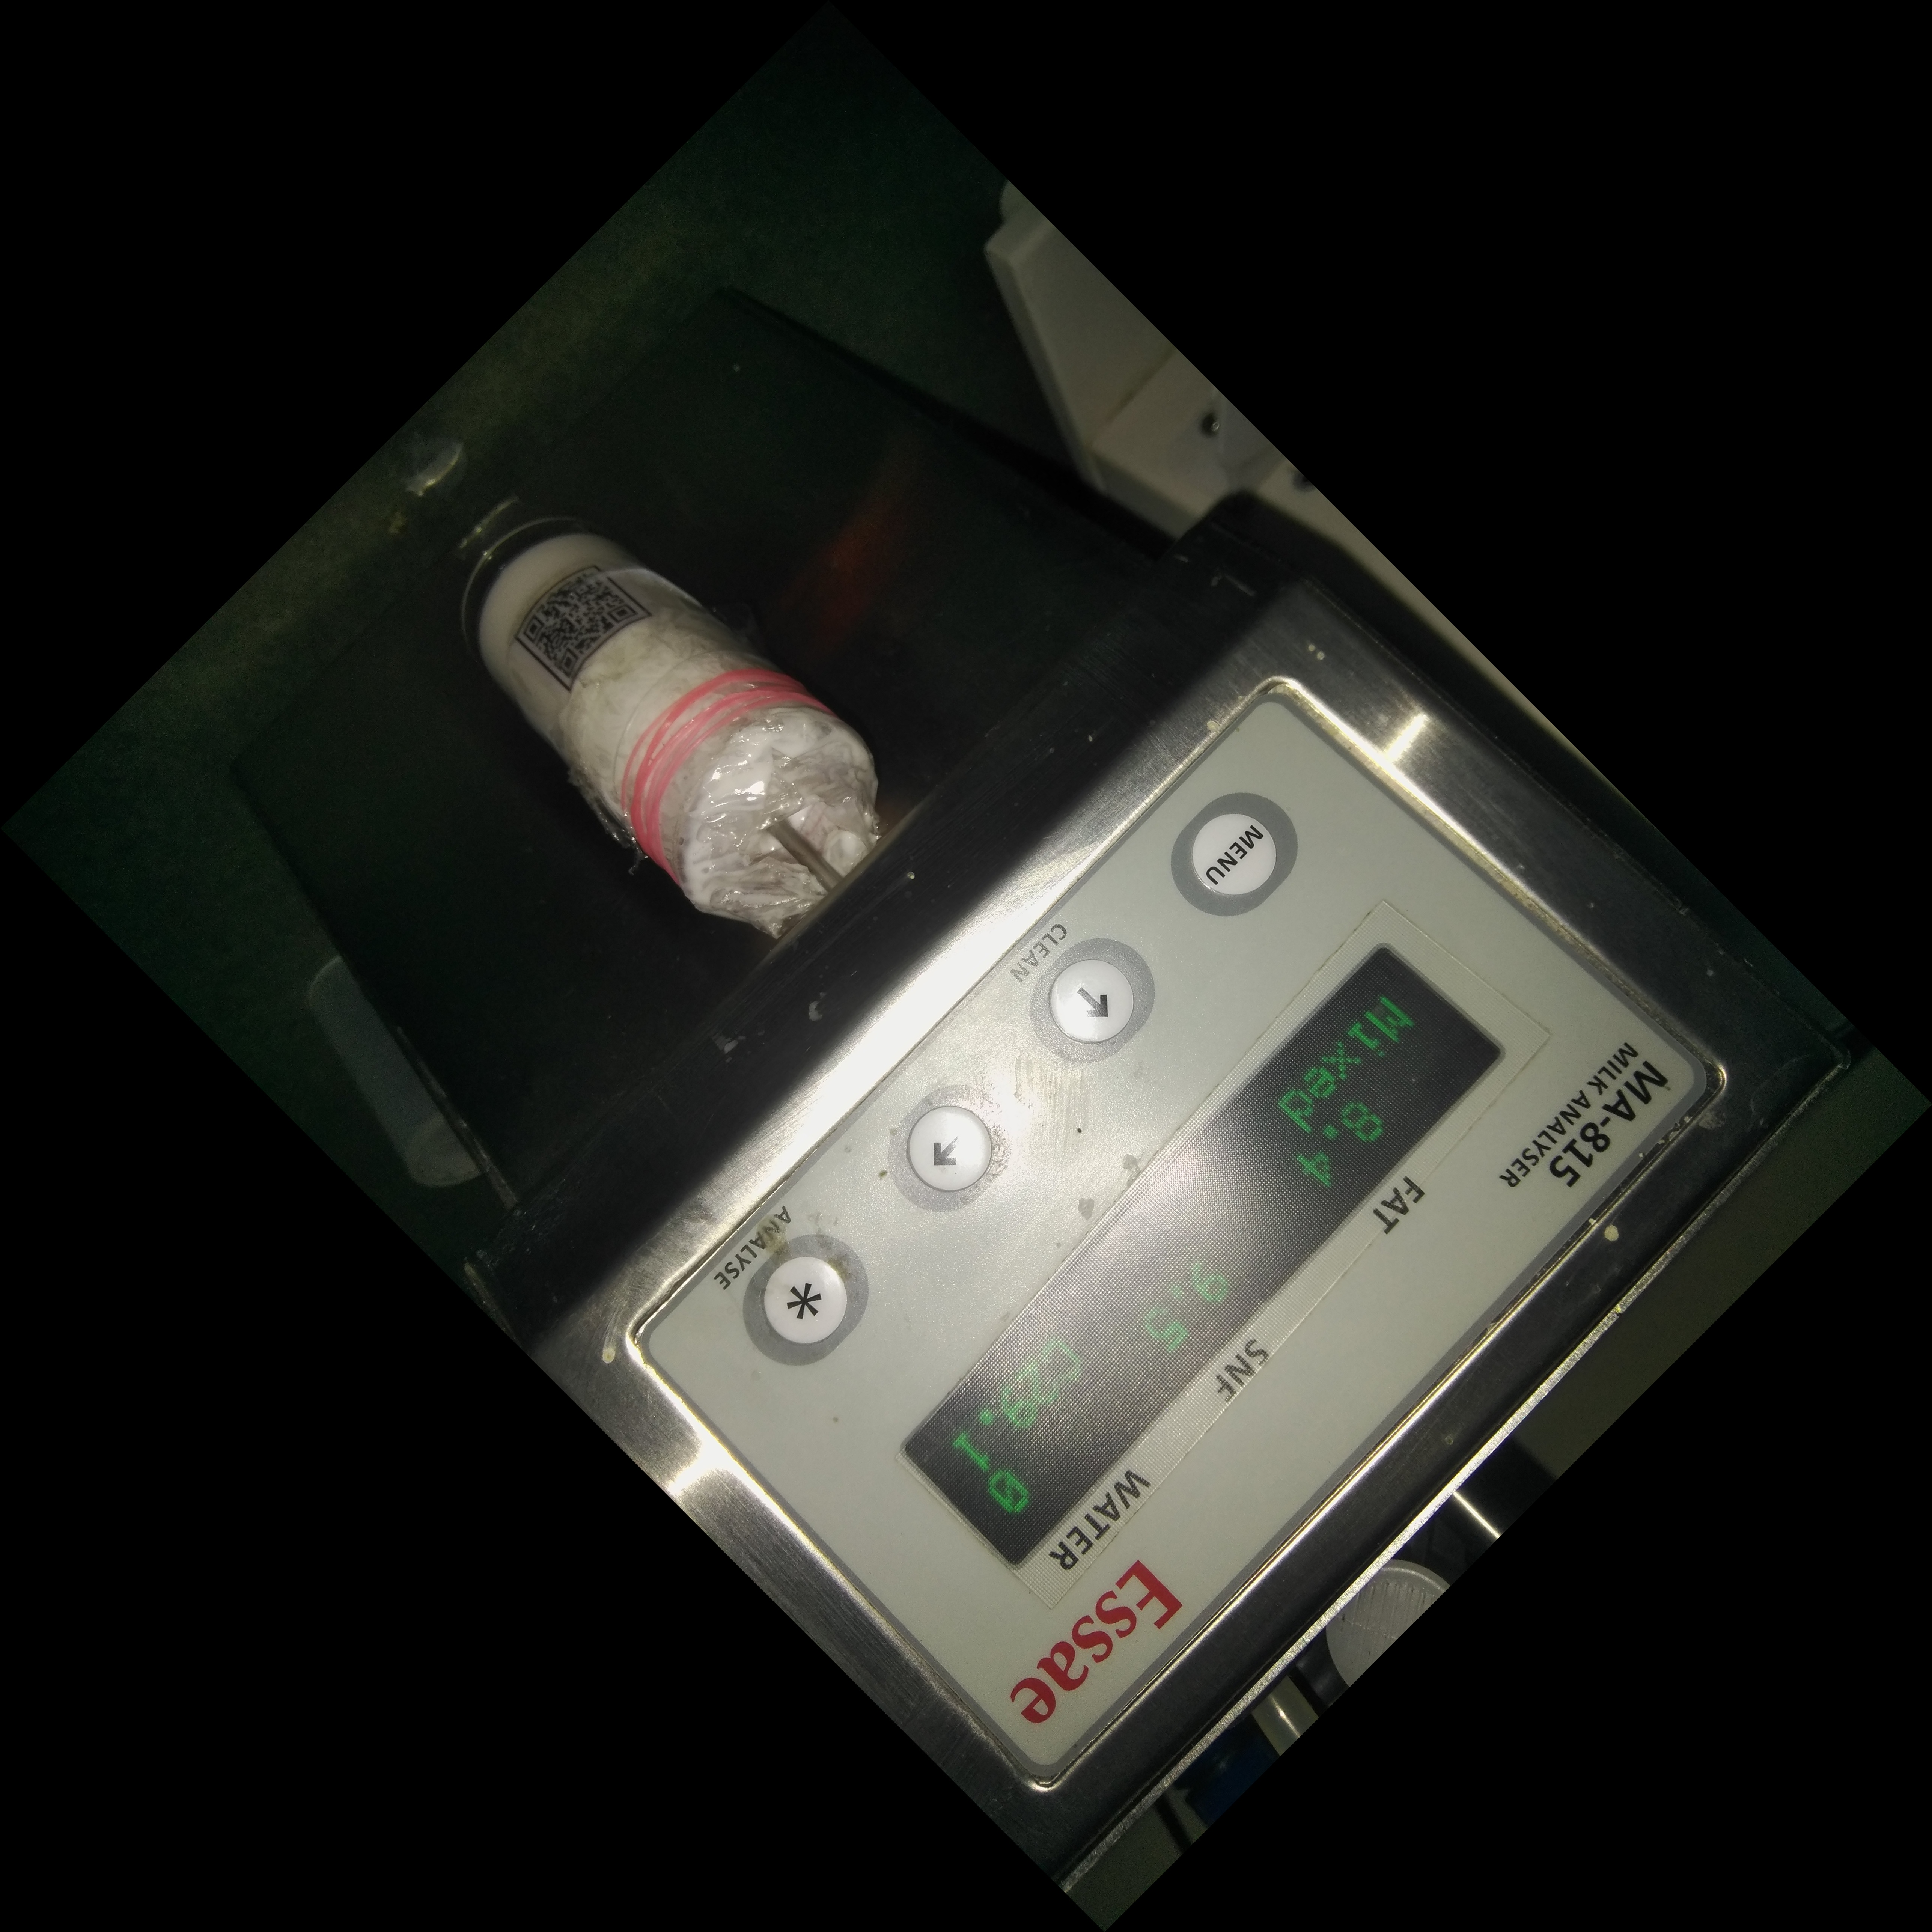lcd: (874, 906, 1522, 1610)
qr: (501, 550, 671, 718)
